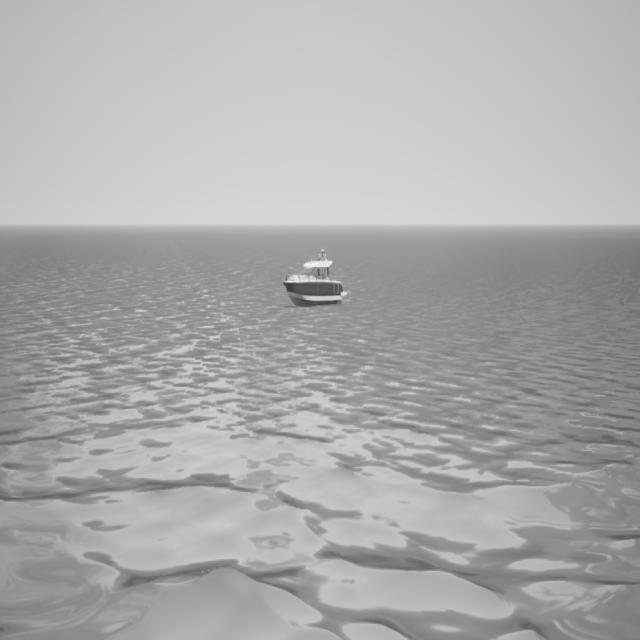ship: (281, 247, 345, 304)
